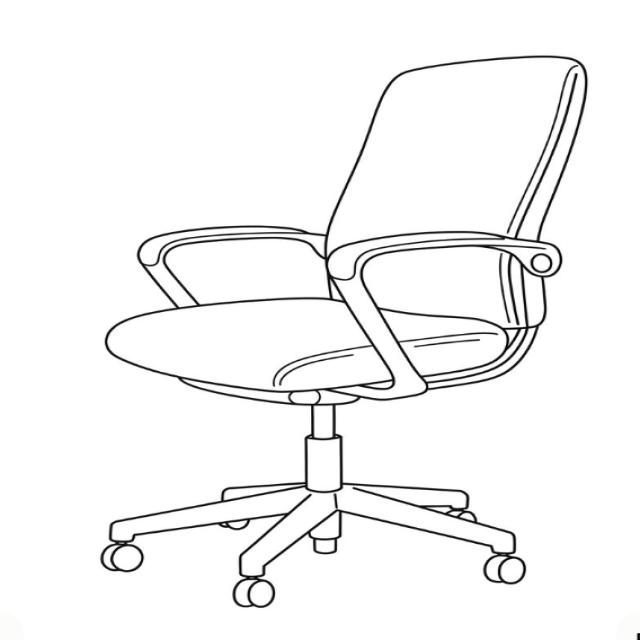5_Star_Base: (98, 433, 531, 612)
Armrest: (318, 227, 569, 404), (133, 224, 332, 311)
Backrest: (324, 54, 591, 332)
Base: (171, 373, 362, 496)
Caster_Wheel: (222, 566, 286, 621), (86, 535, 158, 583), (476, 544, 535, 592)
Seat: (99, 294, 514, 396)
